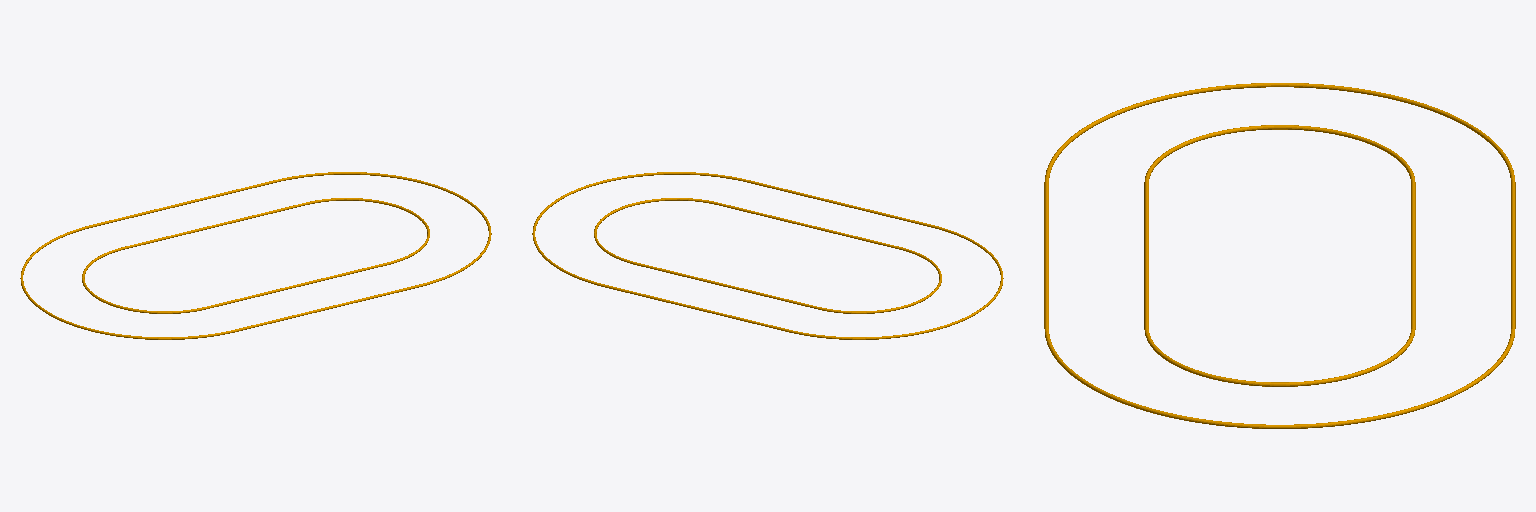
robot.urdf — track:
<?xml version="1.0"?>

<robot name="track">
  <gazebo>
    <static>true</static>
  </gazebo>
  <link name="track_link">
    <!-- starts 3 inches up in z direction -->
    <origin pose="0 0 0 0 0 0"/>
    <collision name="jump22deg_collision">
      <geometry>
        <mesh filename="package://autorally_description/urdf/autoRallyTrack.stl" scale="0.01 0.01 0.01" />
      </geometry>
    </collision>
    <visual cast_shadows="false">
      <geometry>
        <mesh filename="package://autorally_description/urdf/autoRallyTrack.stl" scale="0.01 0.01 0.01" />
      </geometry>
    </visual>
    <inertial>
      <origin xyz="0 0 0" />
      <mass value="1000000000.0" />
      <inertia  ixx="1.0" ixy="0.0"  ixz="0.0"  iyy="100.0"  iyz="0.0"  izz="1.0" />
    </inertial>
  </link>
  <gazebo reference="track_link">
    <material>Gazebo/Black</material>
    <mu1>0.6</mu1>
    <mu2>0.6</mu2>
  </gazebo>
</robot>

--- Render facts (derived) ---
Views: 3 orthographic renders of the robot side by side, from view 1: azimuth 30°, elevation 25°; view 2: azimuth 150°, elevation 25°; view 3: azimuth 270°, elevation 25°.
Model track with 1 links and 0 joints (none), rooted at track_link, posed all joints at 0.
Links seen in each view (by area): view 1: track_link; view 2: track_link; view 3: track_link.
Boxes of the visible links, x1,y1,x2,y2 form: track_link: [20, 172, 491, 339]; track_link: [532, 172, 1003, 339]; track_link: [1044, 83, 1515, 428].
Bounding box of the posed robot: 27.3 × 15.81 × 0.154 m (x, y, z).
1 mesh visuals loaded from 1 distinct referenced files (1 binary STL).